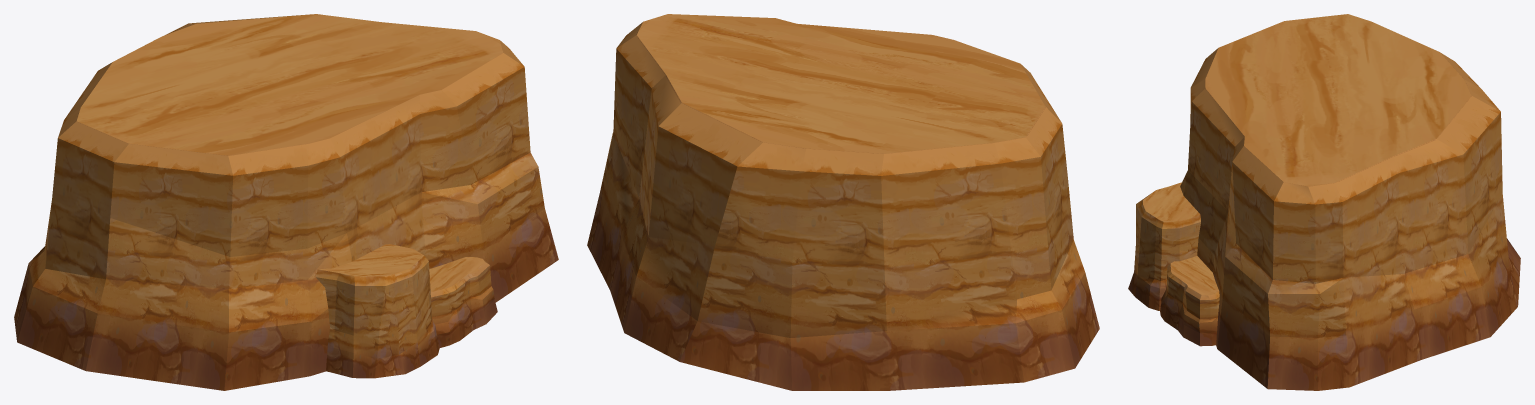
File: desert_cliff.FBX
3 views of the same model, side by side, from view 1: azimuth 30°, elevation 25°; view 2: azimuth 150°, elevation 25°; view 3: azimuth 270°, elevation 25° (orthographic). The views are drawn at different scales.
Visible parts, largest first — view 1: Line009; view 2: Line009; view 3: Line009.
Boxes of the visible parts, x1=… form: Line009: x1=14, y1=14, x2=558, y2=390; Line009: x1=587, y1=14, x2=1099, y2=390; Line009: x1=1128, y1=14, x2=1520, y2=390.
Size of the model in its own units: 98.45 by 40.33 by 76.58.
